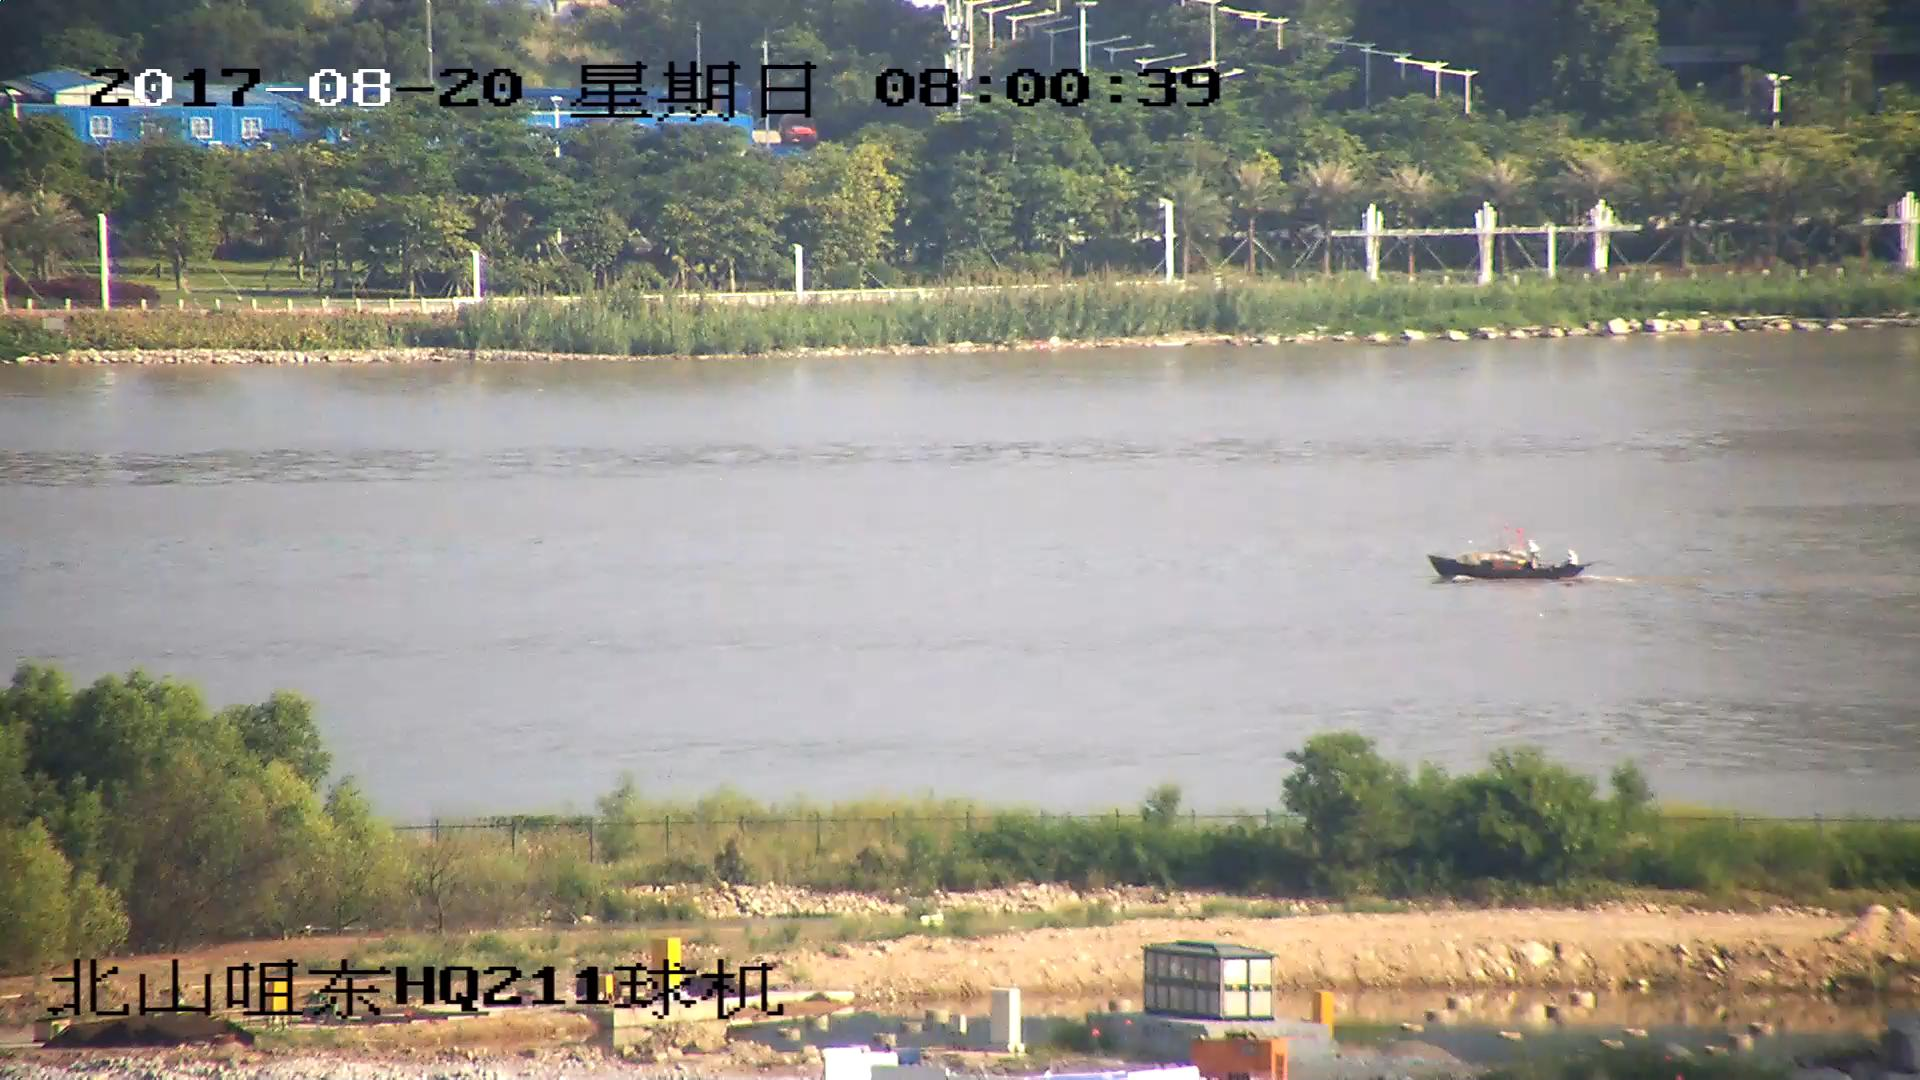fishing boat: (1432, 538, 1582, 583)
